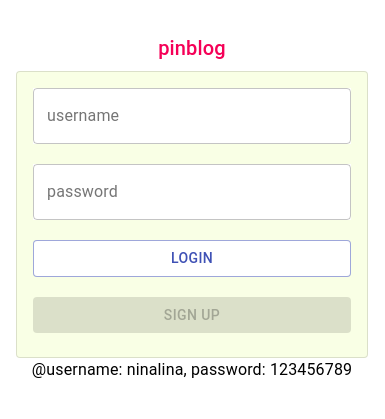
Test: Blog app › Login › fails with wrong credentials
Step 1. Type "natasharp" into the element with test id "username-input" → coordinates (192, 116), box [33,88,351,144]
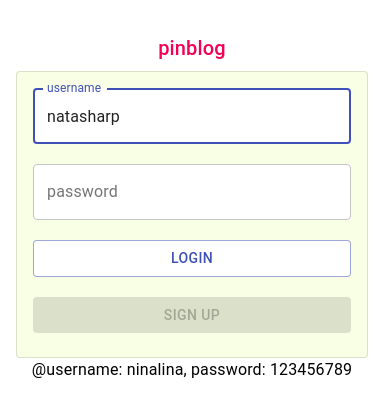
Step 2. Type "wrong" into the element with test id "password-input" → coordinates (192, 192), box [33,164,351,220]
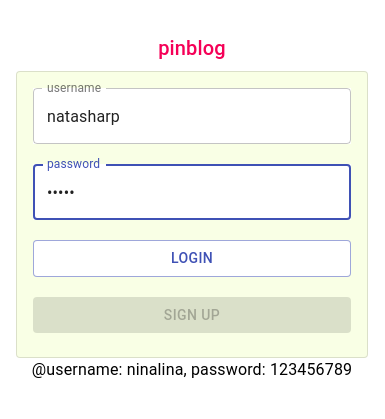
Step 3. Click the button with test id "login-button" → coordinates (192, 259), box [33,240,351,277]
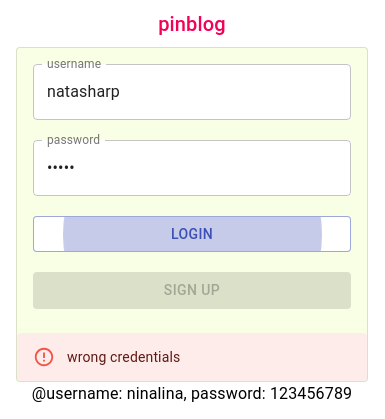
Check: the text "wrong credentials" is shown, box [67,349,180,365]
